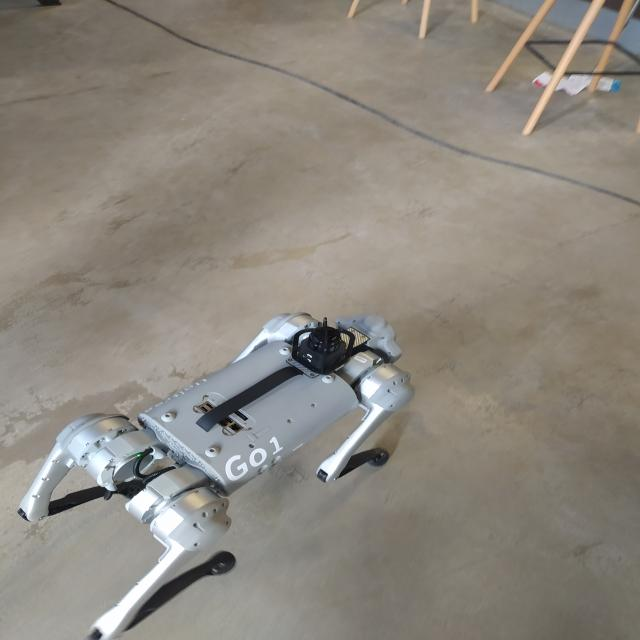unitree-go1-robot: (23, 313, 414, 640)
